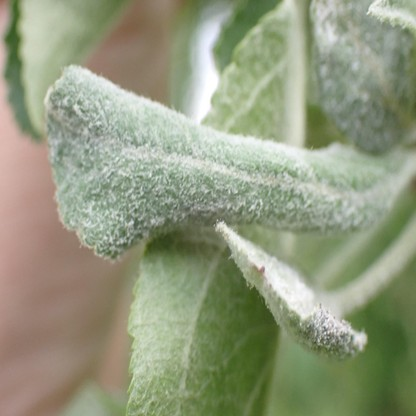powdery_mildew: (45, 63, 398, 261), (214, 223, 369, 363), (133, 229, 225, 416), (310, 1, 416, 155), (200, 0, 291, 146)
